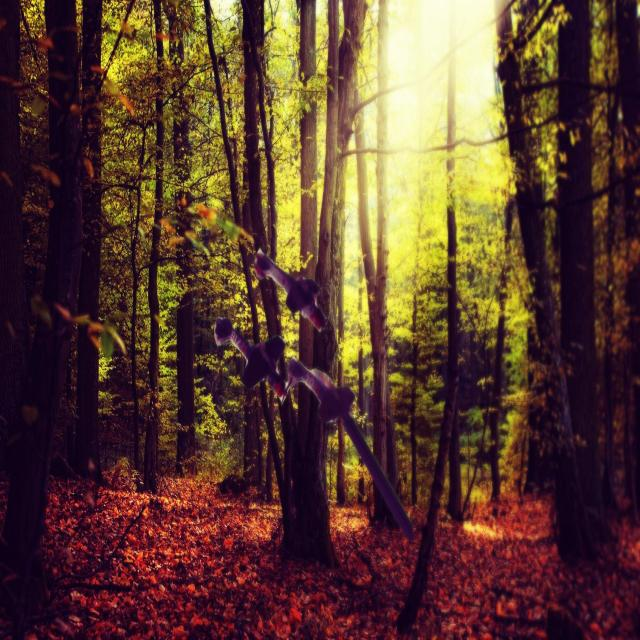airplane: (213, 316, 414, 543), (253, 243, 329, 332)
